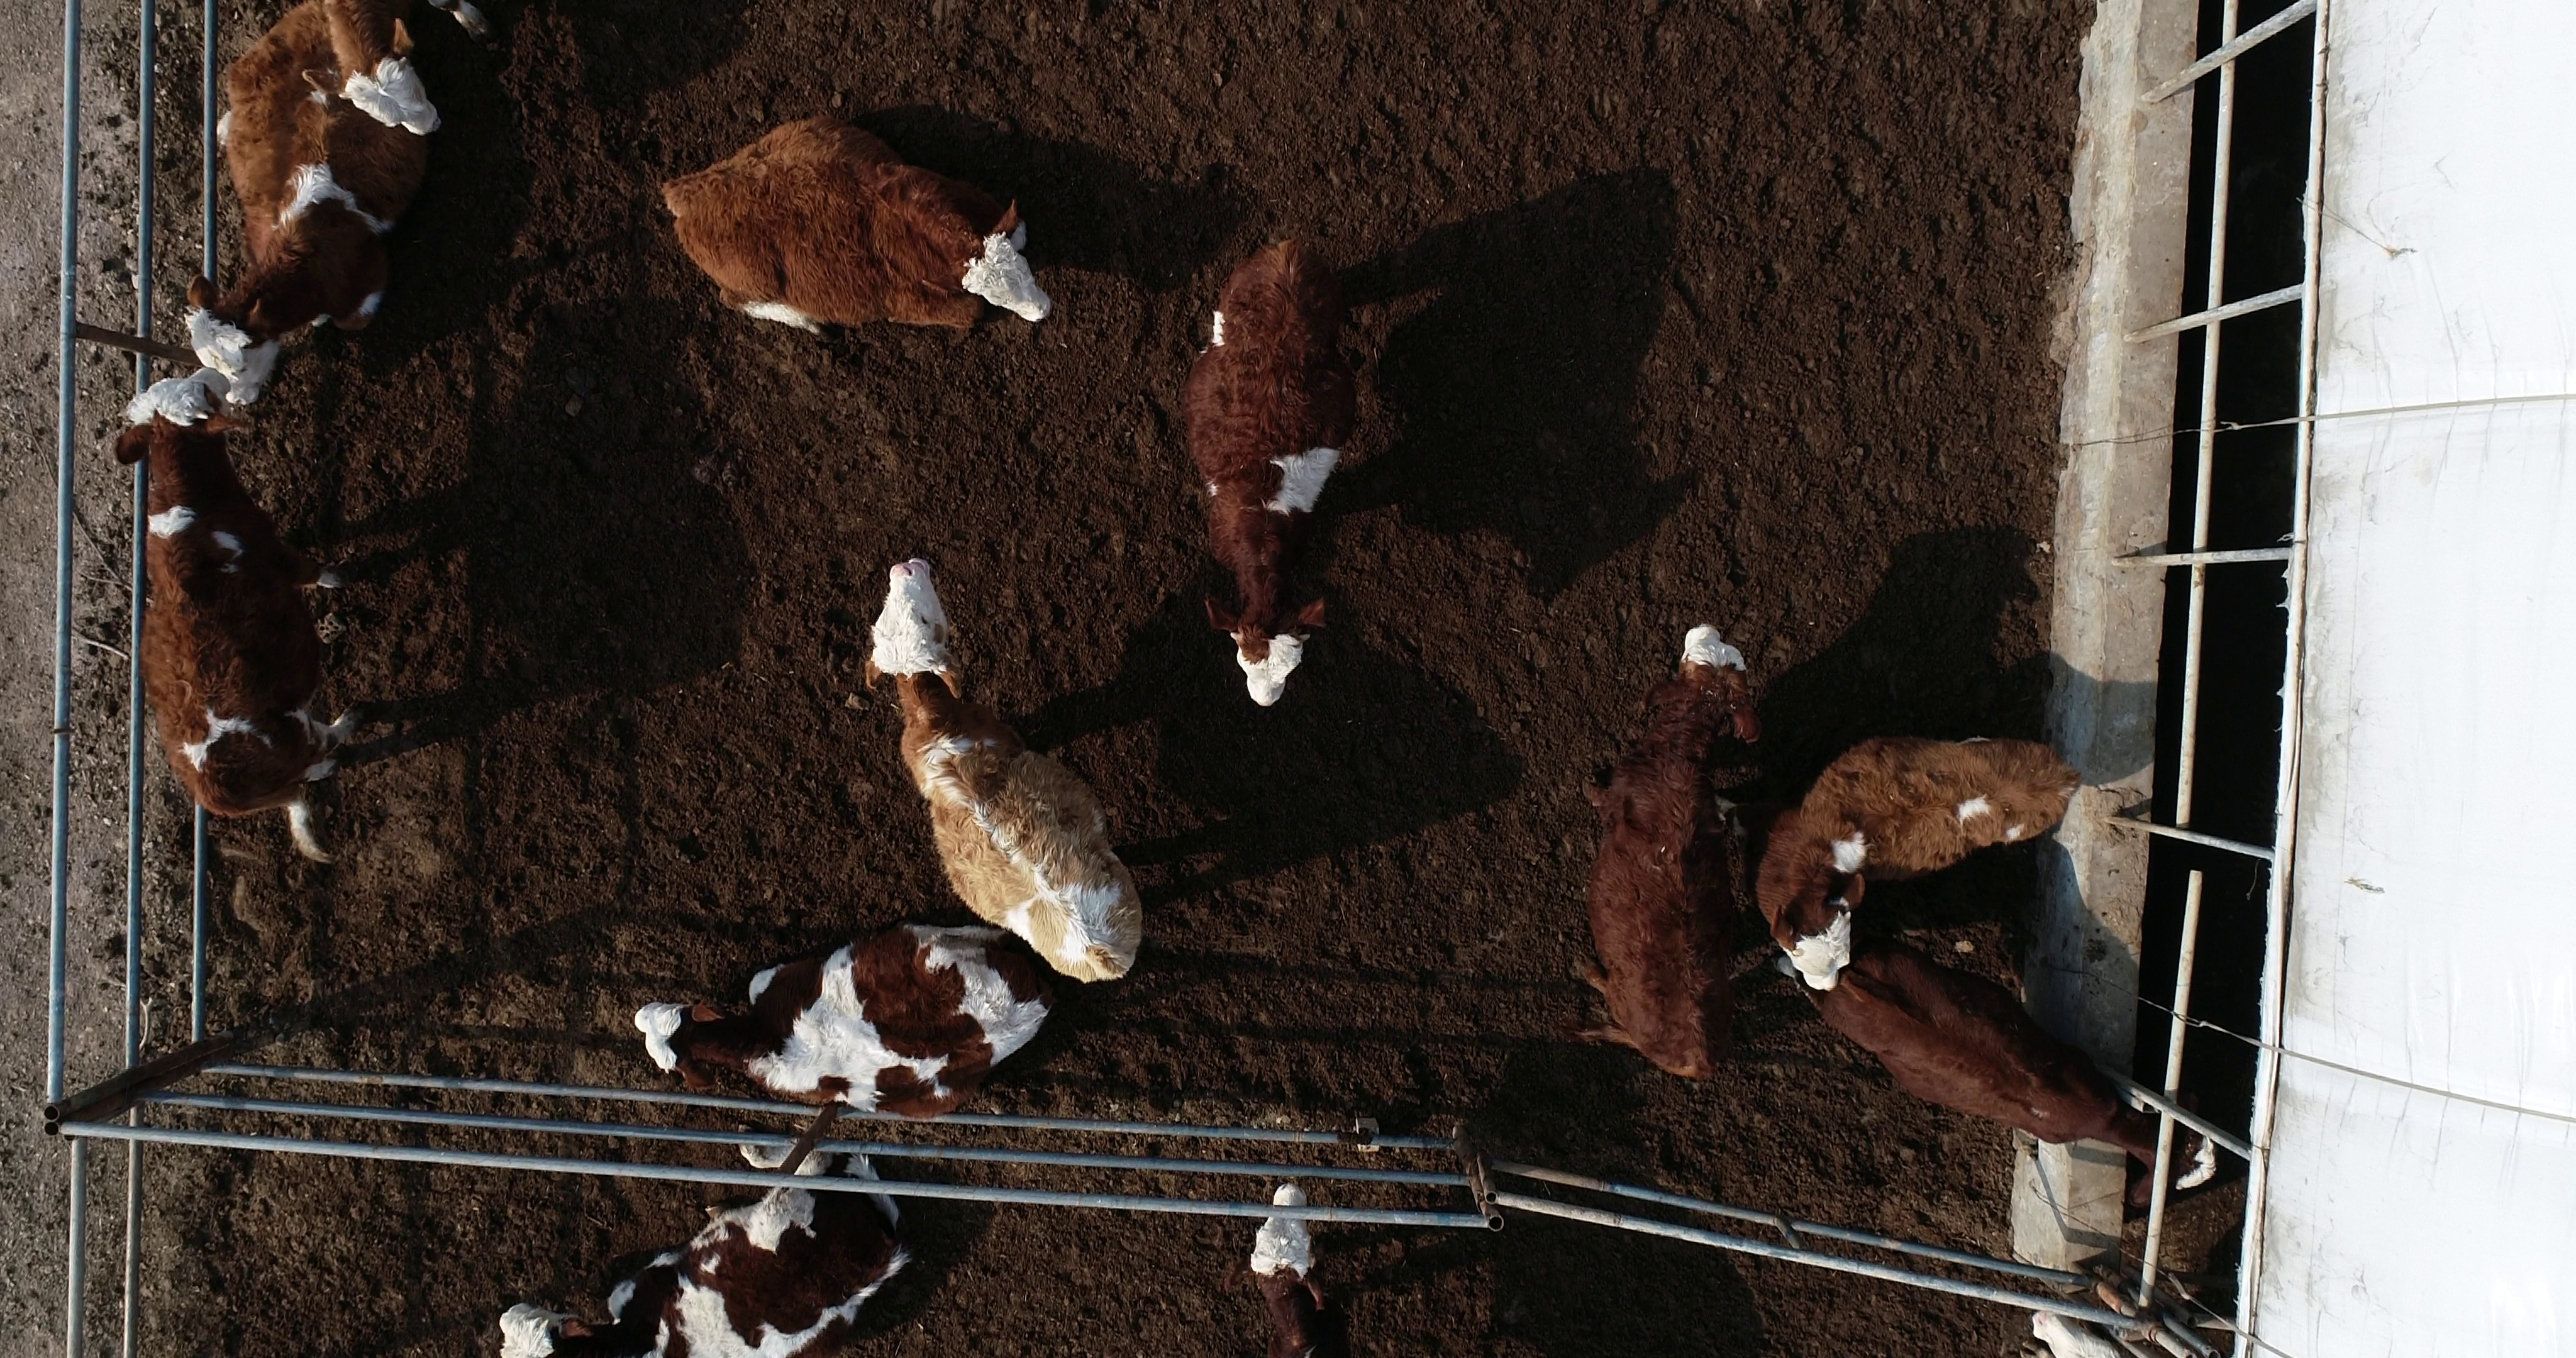cattle: (106, 366, 368, 872), (1772, 924, 2223, 1206), (859, 557, 1155, 987), (654, 106, 1058, 341), (1567, 619, 1763, 1090), (629, 917, 1070, 1123), (1177, 225, 1358, 716), (1760, 729, 2090, 995)
